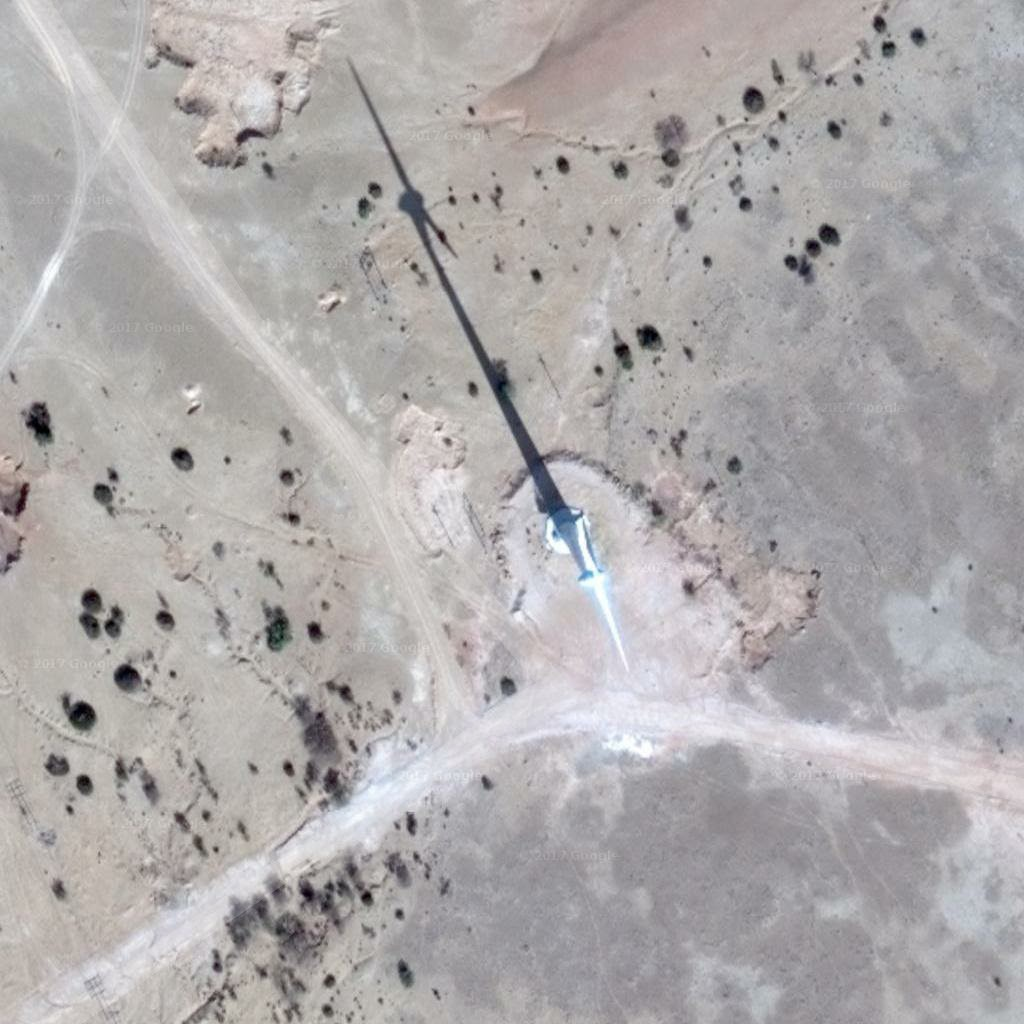Windmill: (338, 67, 575, 505)
